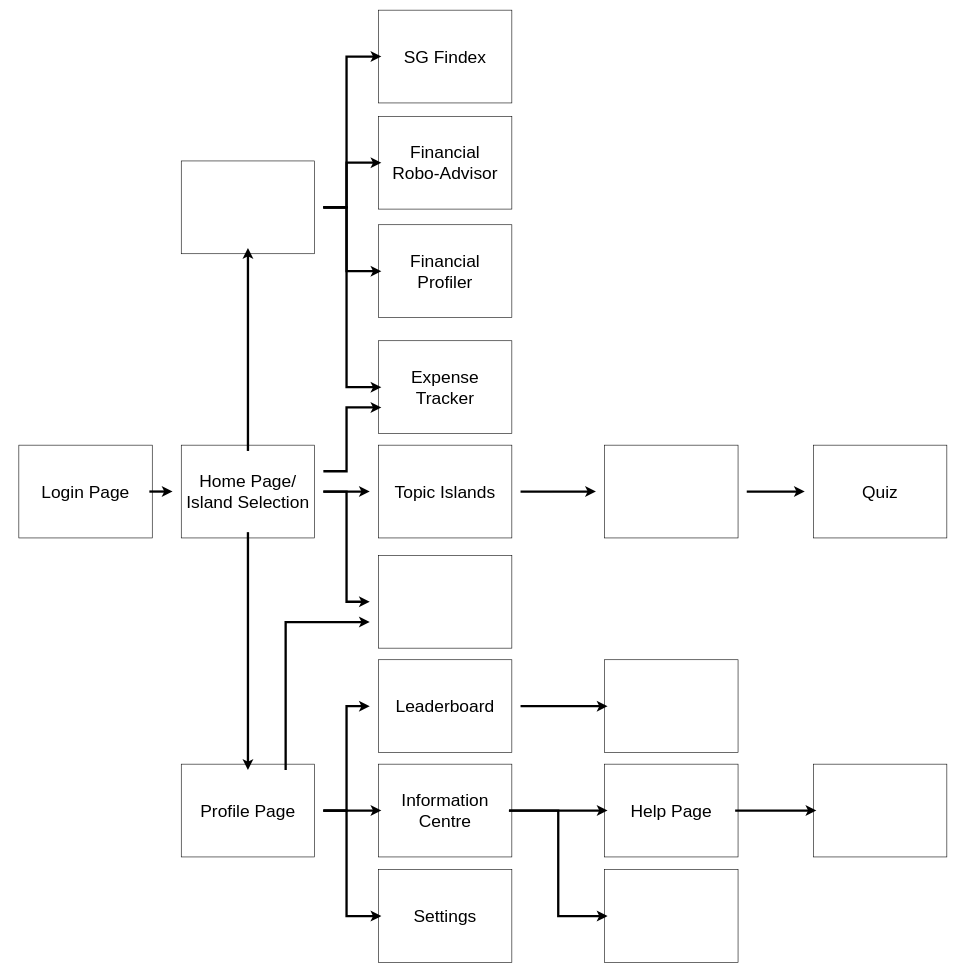
This 965x973 diagram has some shape labels left out. The centre of each missing label's shape, as x and y in pixels:
"Financial Dashboard" belongs at (x=248, y=207).
"Friends" belongs at (x=671, y=706).
"Lessons" belongs at (x=671, y=491).
"Resources" belongs at (x=671, y=916).
"Support Page" belongs at (x=880, y=810).
"Voucher Redemption" belongs at (x=445, y=601).
